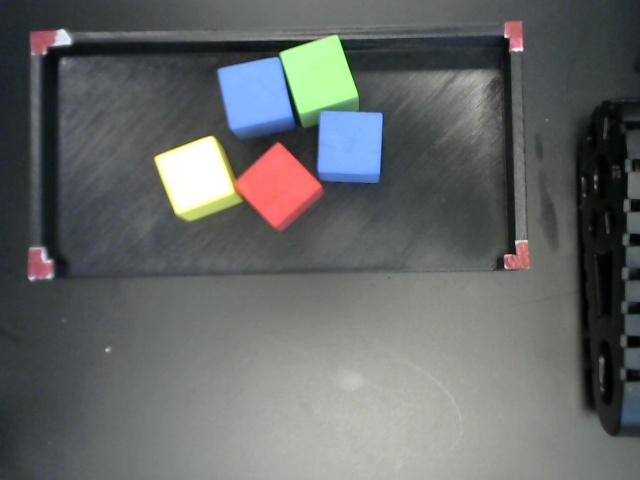cube: (237, 142, 322, 231), (155, 137, 243, 222), (280, 35, 361, 125), (218, 56, 295, 135), (322, 109, 387, 180)
